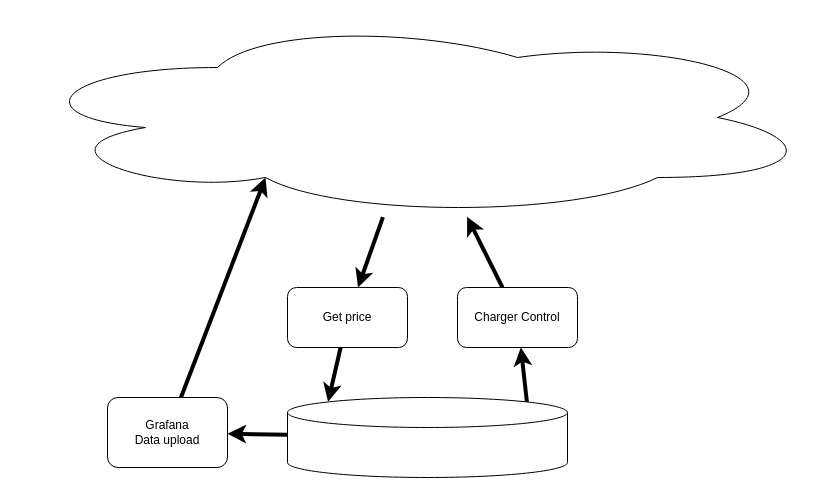
Some shapes in this 835 by 495 pixel diagram are drawn without their labels. Here are the shapes that lost their labels. From the top down, the centre of each, then its label:
At [417,117]: "Internet".
At [427,437]: "Data".
